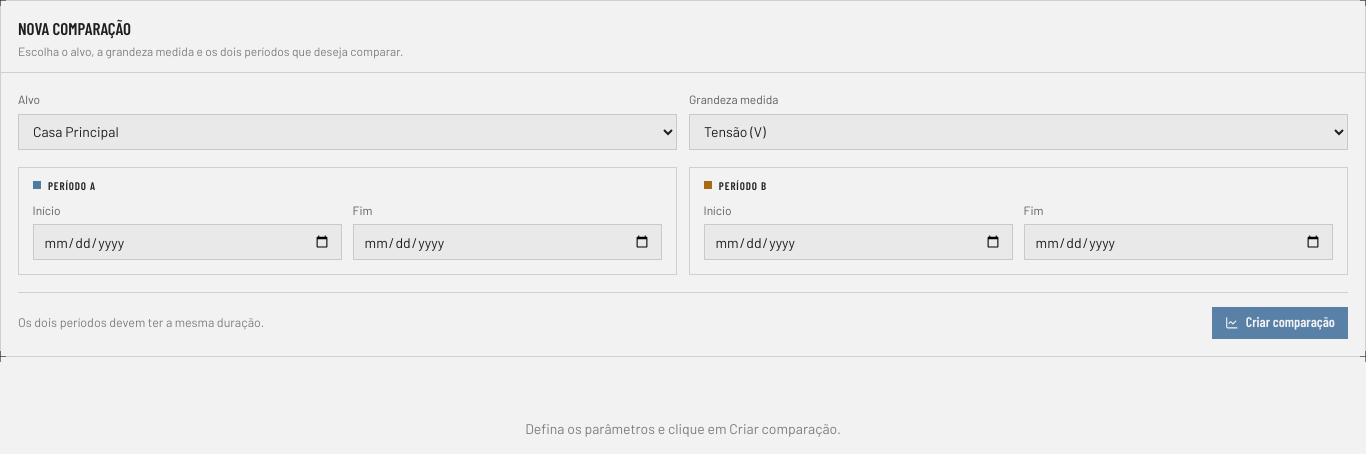
it: HistoryPage › depois de criar a comparação › enquanto a comparação carrega, mostra o estado de carregamento
Expected: the dropdown labelled "Alvo" is shown, [18,114,677,150]
In the date field labelled "Início" below "Período A": (188, 242) [33,224,342,260], type "2026-01-01"
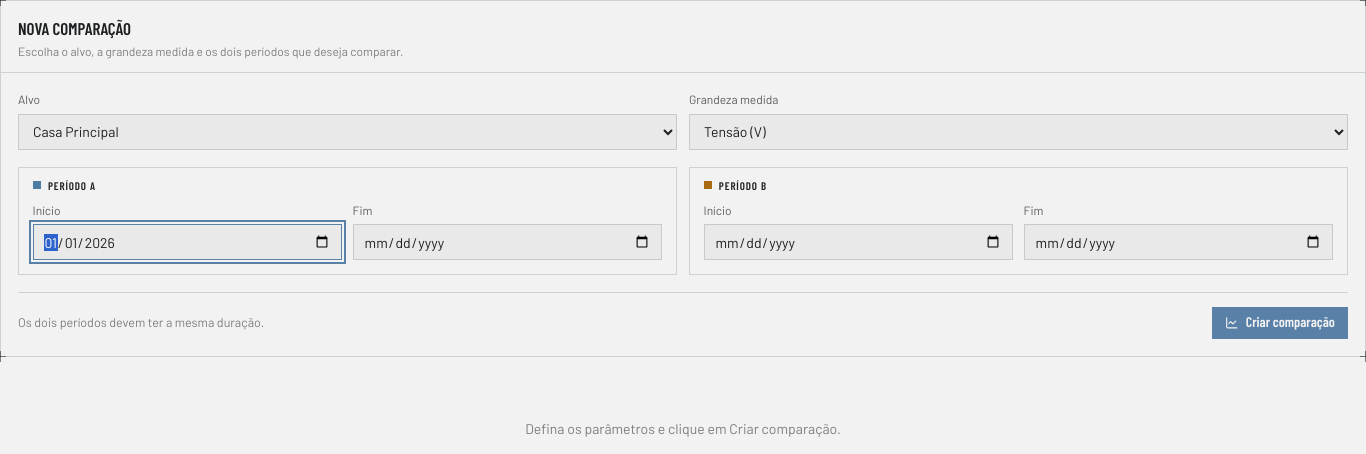
In the date field labelled "Fim" below "Período A": (508, 242) [353,224,662,260], type "2026-01-07"
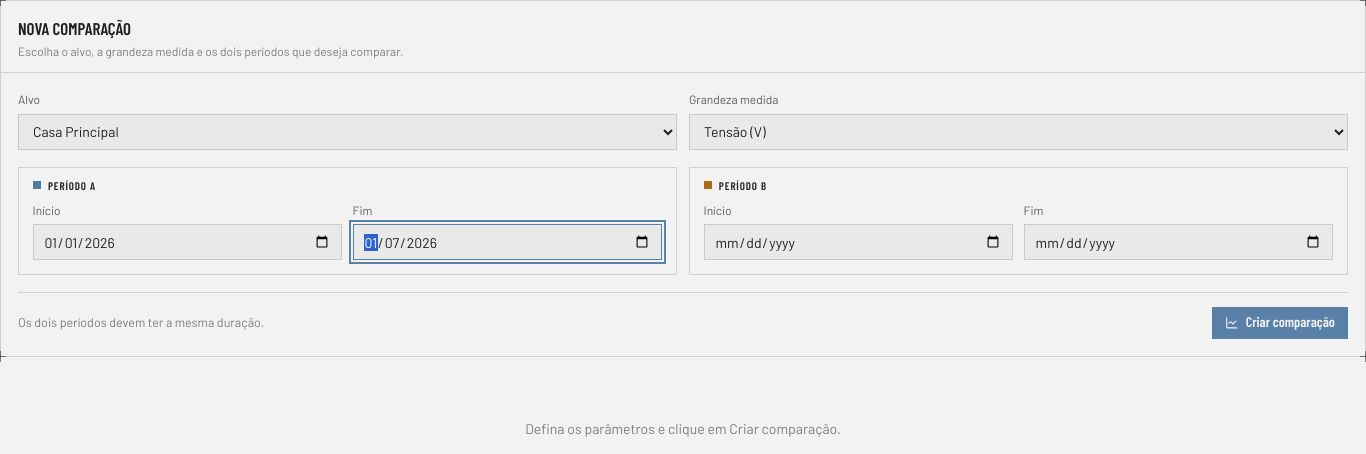
In the date field labelled "Início" below "Período B": (858, 242) [704,224,1013,260], type "2026-02-01"
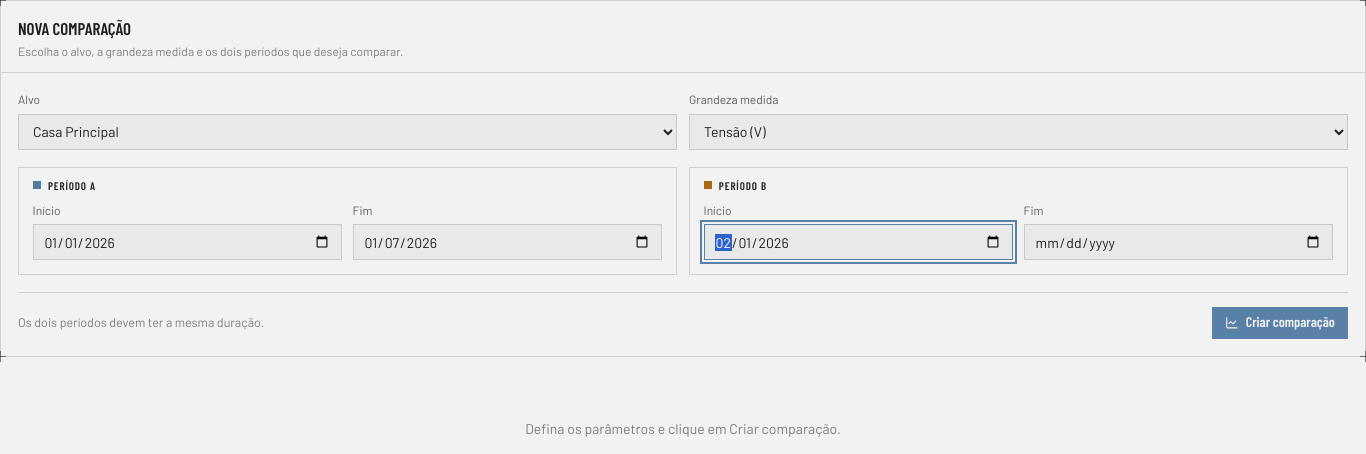
In the date field labelled "Fim" below "Período B": (1178, 242) [1024,224,1333,260], type "2026-02-07"
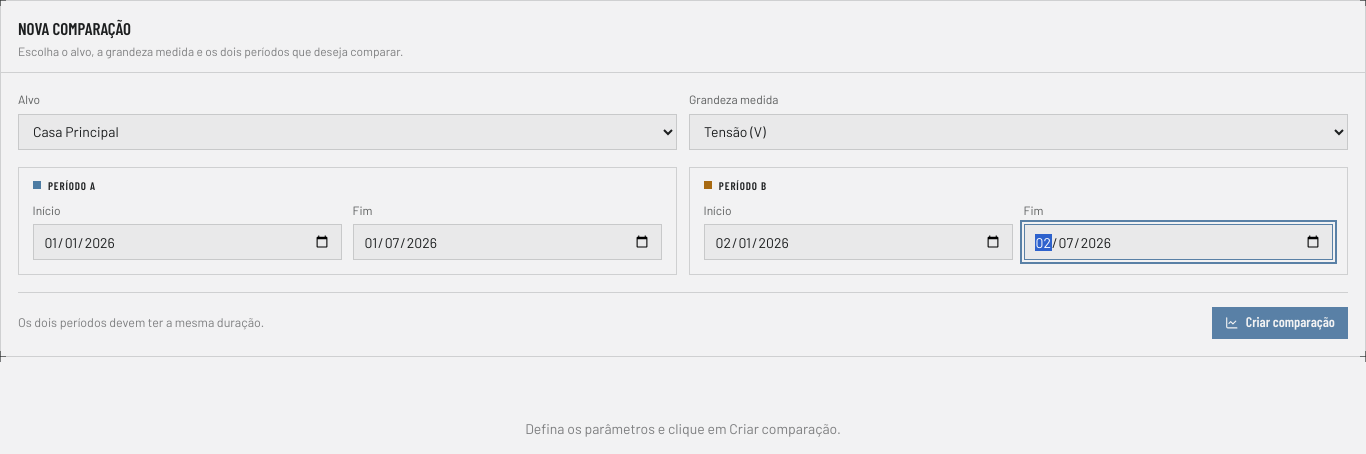
Click the button "Criar comparação": (1280, 323) [1212,307,1348,339]
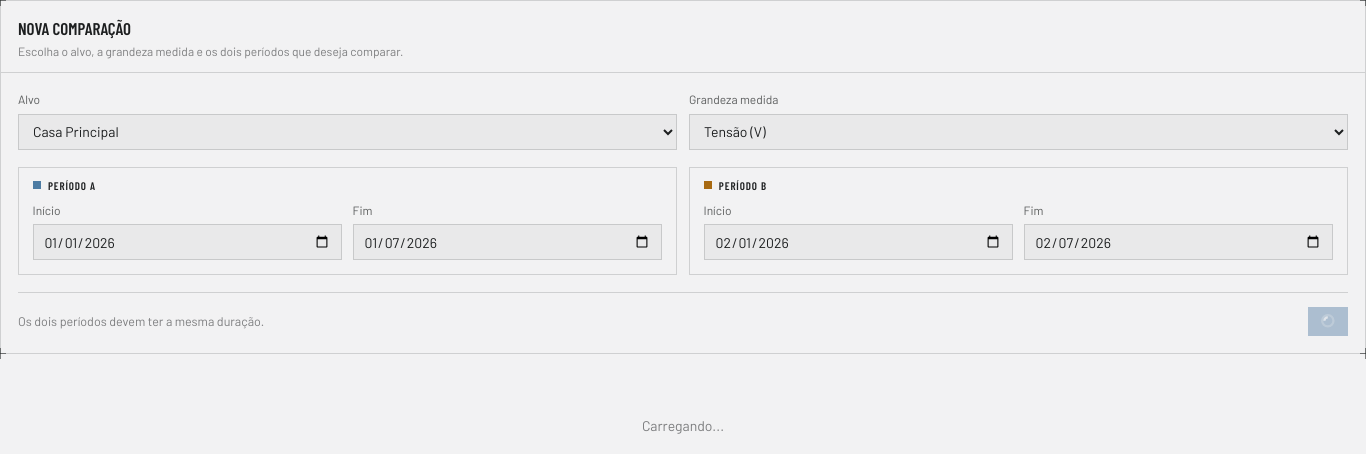
Expected: the text "Carregando..." is shown, [642,417,724,434]
